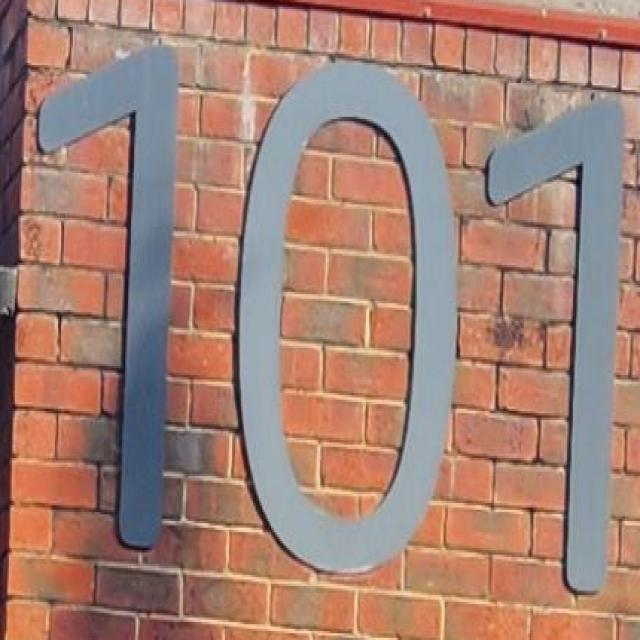character: (226, 48, 462, 586), (31, 32, 181, 564), (480, 86, 629, 608)
